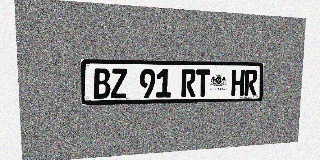1: (156, 69, 171, 98)
9: (140, 69, 155, 98)
B: (93, 68, 110, 99)
H: (231, 70, 245, 96)
R: (181, 69, 196, 97), (244, 70, 258, 96)
T: (196, 69, 210, 97)
Z: (111, 68, 127, 98)
